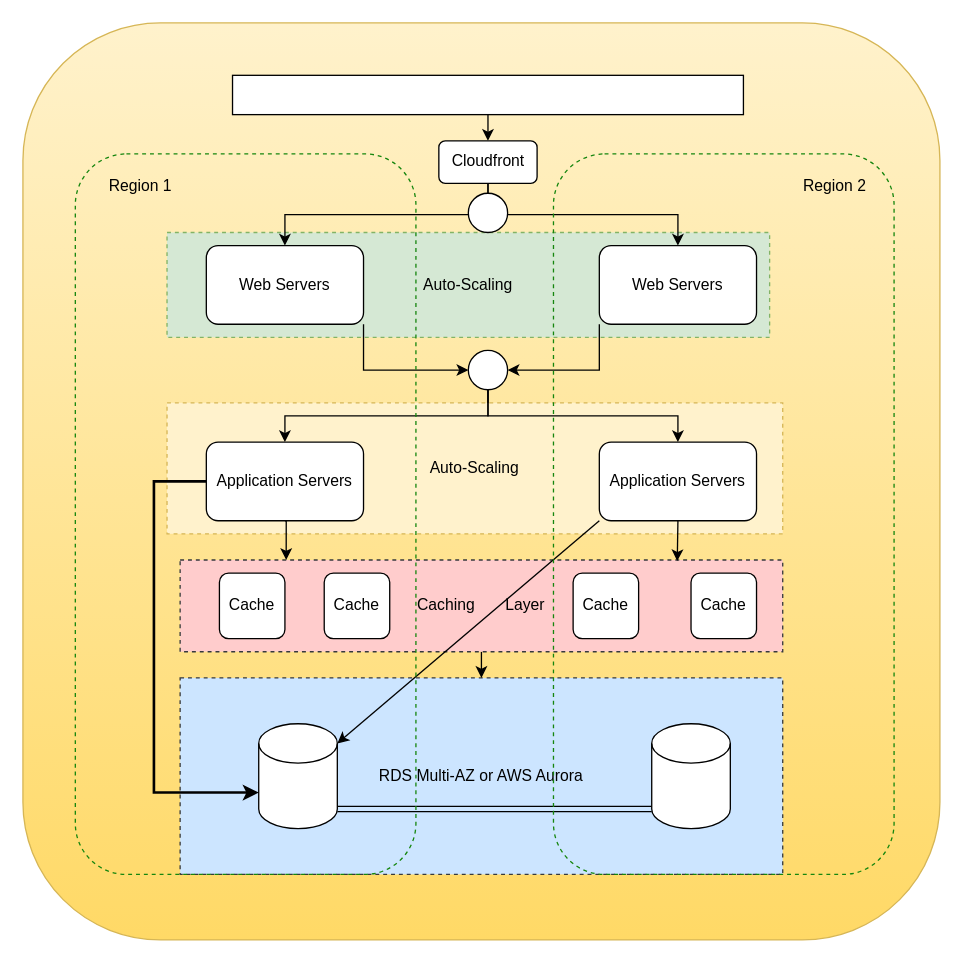
The diagram is 963 pixels wide and 963 high, and some of its shapes have lost their labels. The centre of each missing label's shape, as x and y in pixels:
"ALB" goes at (x=487, y=369).
"DB Standby" goes at (x=690, y=775).
"Global Load Balancer (Route53/Global Accelerator)" goes at (x=487, y=94).
"Main Database" goes at (x=297, y=775).
"NLB" goes at (x=487, y=212).
